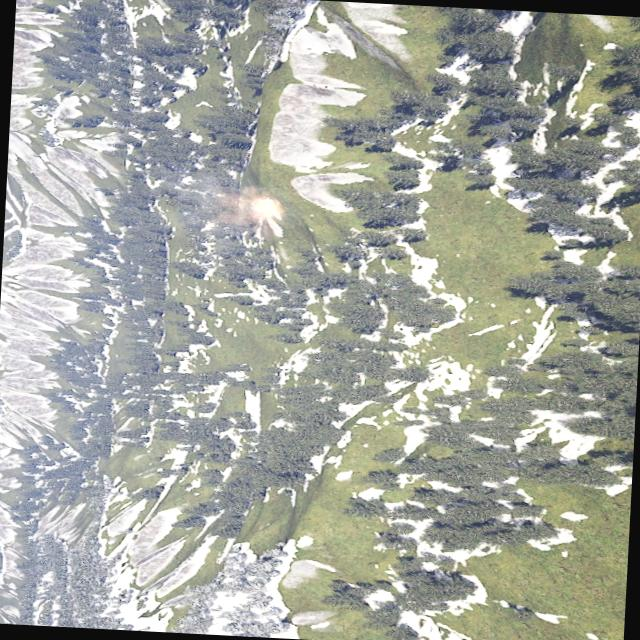fire: (253, 194, 284, 218)
smoke: (174, 174, 259, 232)
